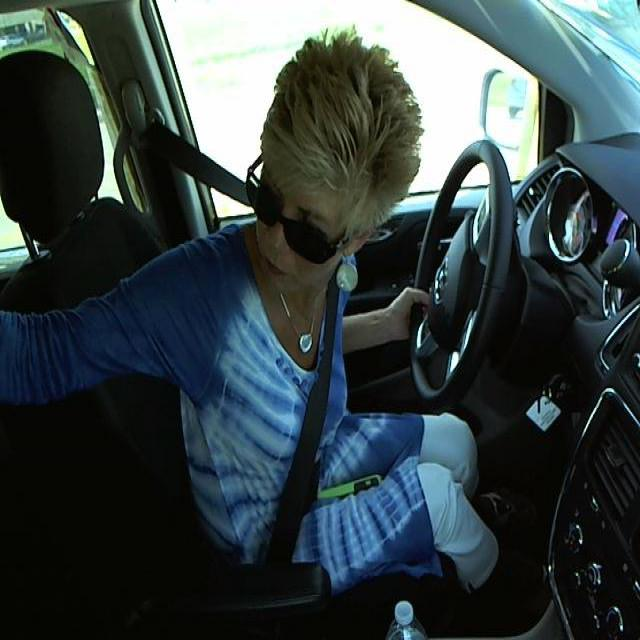seatbelt: (158, 106, 243, 235)
